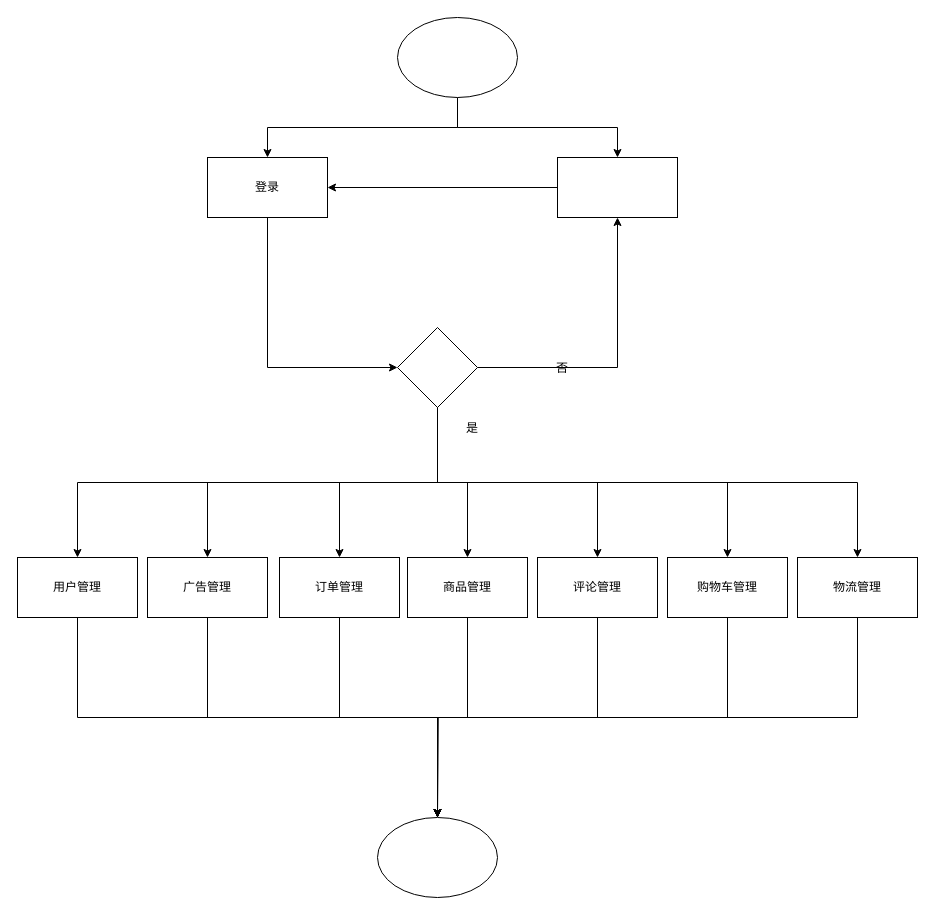
This 935x915 diagram has some shape labels left out. The centre of each missing label's shape, as x and y in pixels:
"开始" belongs at point 457,57.
"是否成功" belongs at point 437,367.
"注册" belongs at point 617,187.
"退出" belongs at point 437,857.
